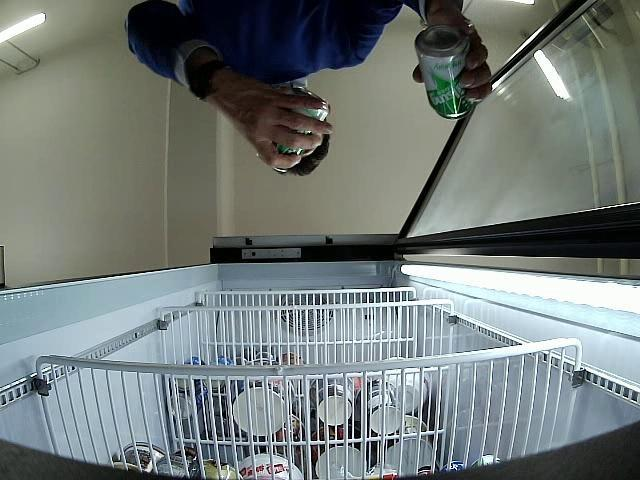12_chilsungCider: (256, 86, 332, 174), (416, 25, 478, 120)
